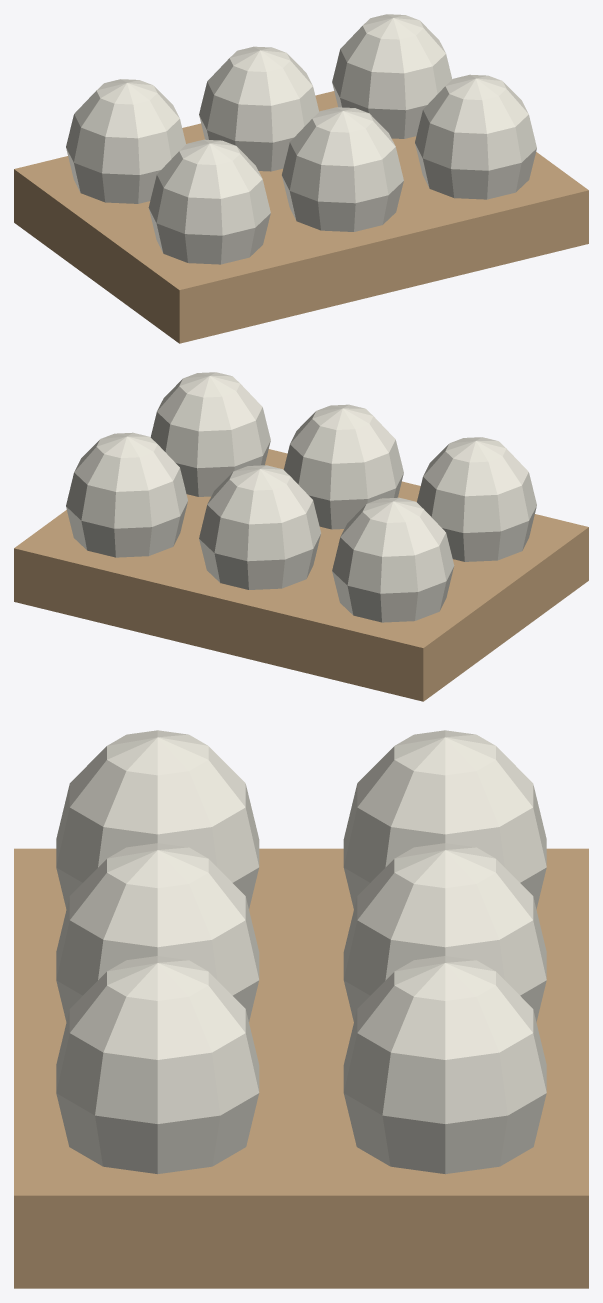
File: supermarket-operations-egg-carton-4e98c67b__26883.glb
The picture shows the model from 3 angles, top to bottom: view 1: azimuth 30°, elevation 25°; view 2: azimuth 150°, elevation 25°; view 3: azimuth 270°, elevation 25°; orthographic projection. The views are drawn at different scales.
Visible parts, largest first — view 1: egg-carton; view 2: egg-carton; view 3: egg-carton.
Boxes of the visible parts, x1,y1,x2,y2 form: egg-carton: (14, 14, 588, 343); egg-carton: (14, 372, 588, 701); egg-carton: (14, 730, 588, 1288).
Size of the model in its own units: 0.2 by 0.0712 by 0.14.
